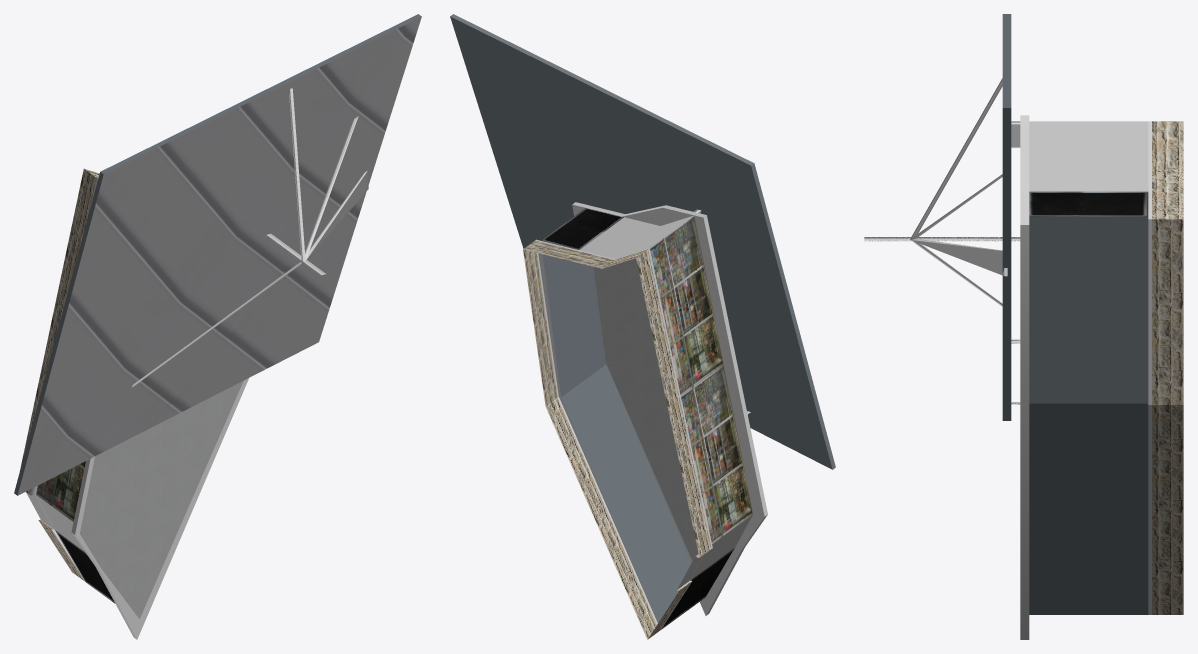
File: Vv1b_2-origo.obj
3 views of the same model, side by side, from view 1: azimuth 30°, elevation 25°; view 2: azimuth 150°, elevation 25°; view 3: azimuth 270°, elevation 25° (orthographic). The views are drawn at different scales.
Visible parts, largest first — view 1: polySurface3; view 2: polySurface3; view 3: polySurface3.
Boxes of the visible parts, x1,y1,x2,y2 form: polySurface3: (14, 14, 421, 639); polySurface3: (450, 14, 835, 639); polySurface3: (864, 14, 1183, 639).
Size of the model in its own units: 10.56 by 14 by 5.78.
